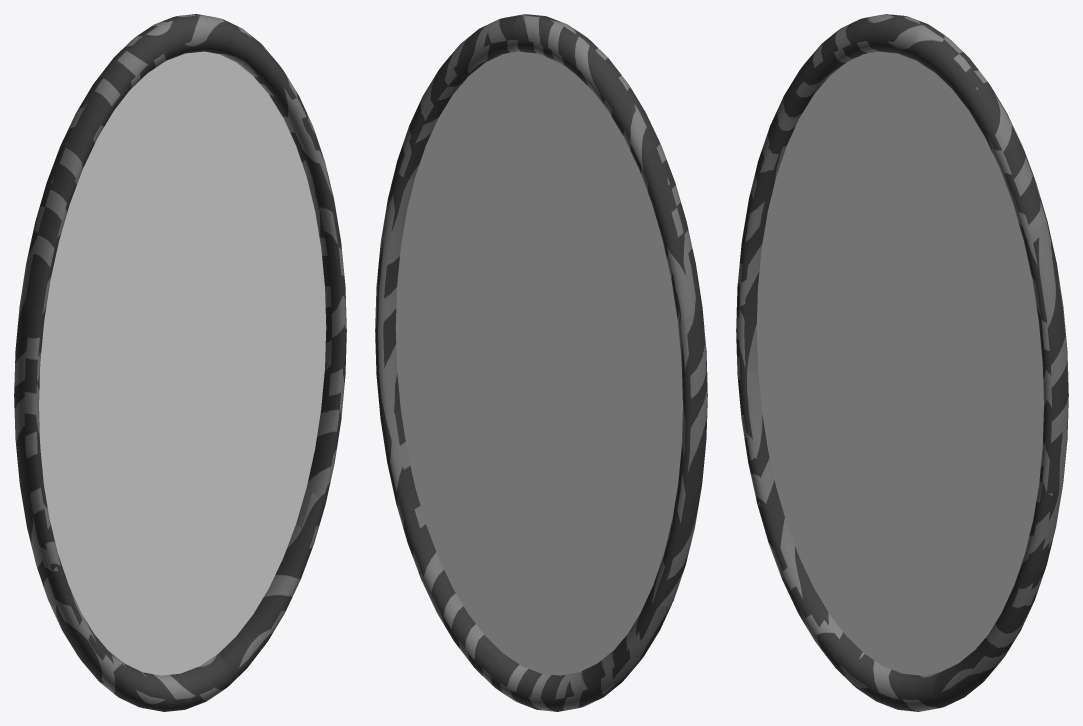
The model's file is lensBroken.fbx.
The picture shows the model from 3 angles, left to right: view 1: azimuth 30°, elevation 25°; view 2: azimuth 150°, elevation 25°; view 3: azimuth 330°, elevation 25°; orthographic projection.
Visible parts, largest first — view 1: Cylinder_020, Cylinder_030, Cylinder_028, Cylinder_027, Cylinder_003, Cylinder_033, Torus_003, Torus_008, Cylinder_029, Cylinder_022, Torus_005, Cylinder_023 (+31 smaller); view 2: Cylinder_020, Cylinder_030, Cylinder_028, Cylinder_027, Cylinder_003, Cylinder_033, Torus_003, Torus_008, Cylinder_029, Cylinder_022, Torus_005, Cylinder_023 (+31 smaller); view 3: Cylinder_020, Cylinder_030, Cylinder_028, Cylinder_027, Cylinder_003, Torus_003, Cylinder_033, Torus_005, Cylinder_022, Cylinder_029, Torus_008, Torus_007 (+30 smaller).
Part boxes in pixels (bbox=[...]): Cylinder_020: bbox=[39, 339, 172, 503]; Cylinder_030: bbox=[112, 113, 234, 310]; Cylinder_028: bbox=[195, 207, 325, 429]; Cylinder_027: bbox=[56, 181, 194, 355]; Cylinder_003: bbox=[84, 503, 180, 625]; Cylinder_033: bbox=[203, 92, 282, 253]; Torus_003: bbox=[48, 586, 229, 711]; Torus_008: bbox=[60, 14, 210, 168]; Cylinder_029: bbox=[266, 138, 326, 341]; Cylinder_022: bbox=[173, 311, 270, 452]; Torus_005: bbox=[307, 162, 346, 418]; Cylinder_023: bbox=[226, 327, 317, 459]; Cylinder_020: bbox=[549, 339, 682, 503]; Cylinder_030: bbox=[487, 113, 609, 310]; Cylinder_028: bbox=[396, 207, 526, 429]; Cylinder_027: bbox=[527, 181, 665, 355]; Cylinder_003: bbox=[541, 503, 637, 625]; Cylinder_033: bbox=[439, 92, 518, 253]; Torus_003: bbox=[492, 586, 673, 711]; Torus_008: bbox=[511, 14, 661, 168]; Cylinder_029: bbox=[395, 138, 455, 341]; Cylinder_022: bbox=[451, 311, 548, 452]; Torus_005: bbox=[375, 162, 414, 418]; Cylinder_023: bbox=[404, 327, 495, 459]; Cylinder_020: bbox=[756, 267, 894, 499]; Cylinder_030: bbox=[834, 109, 956, 316]; Cylinder_028: bbox=[917, 234, 1043, 491]; Cylinder_027: bbox=[773, 125, 916, 355]; Cylinder_003: bbox=[806, 457, 902, 602]; Torus_003: bbox=[769, 529, 939, 711]; Cylinder_033: bbox=[925, 127, 1004, 295]; Torus_005: bbox=[1024, 222, 1068, 493]; Cylinder_022: bbox=[895, 318, 992, 493]; Cylinder_029: bbox=[988, 188, 1043, 404]; Torus_008: bbox=[782, 14, 927, 119]; Torus_007: bbox=[913, 24, 1022, 168].
Size of the model in its own units: 5.84 by 11.9 by 0.6013.
